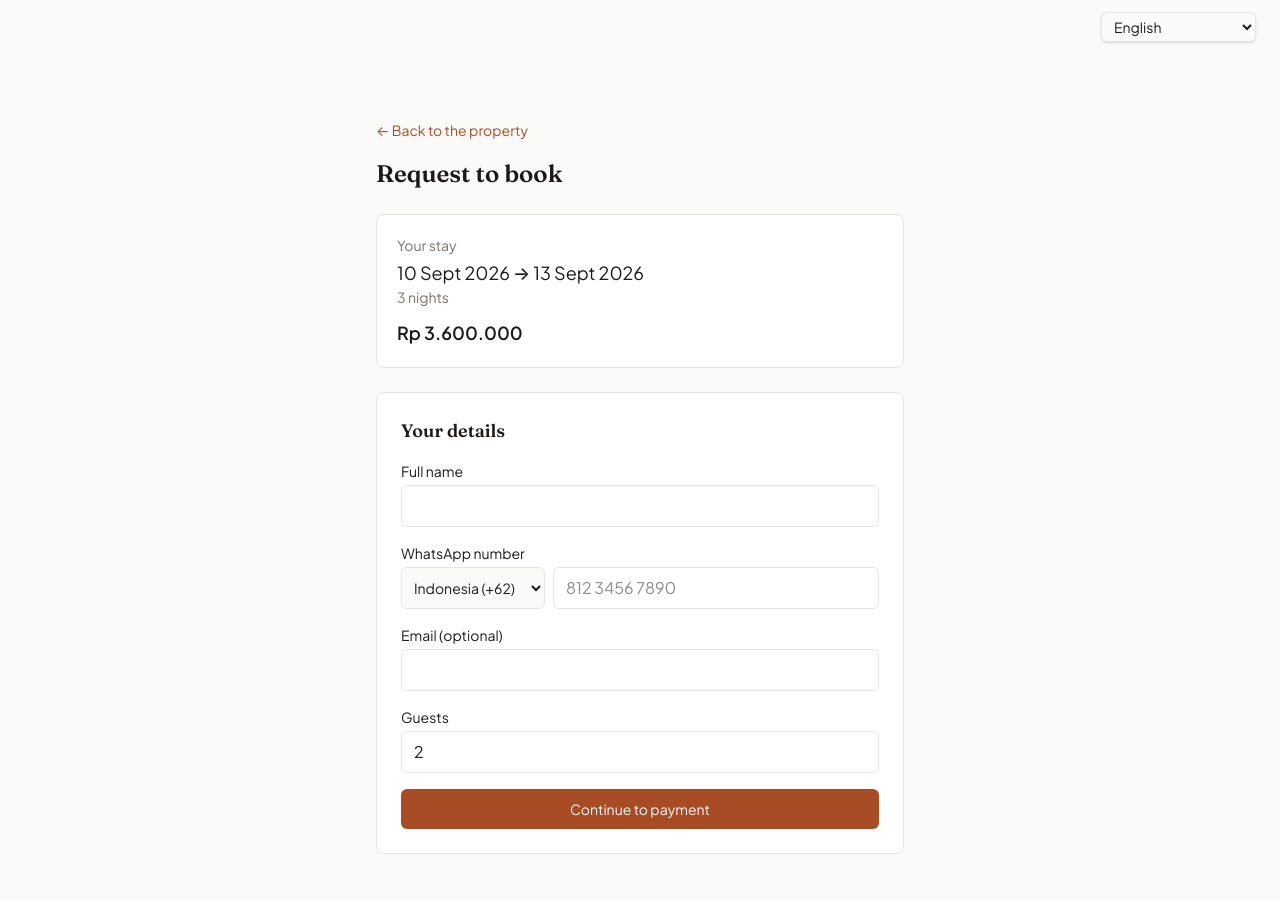
Test: checkout page › blocks submit with an inline error for an invalid number, no request sent (#54)
Expected: the text "Rp 3.600.000" is shown, [397,321,523,344]
Type "Made A." into the field labelled "Full name" at (640, 506), box [401,485,879,527]
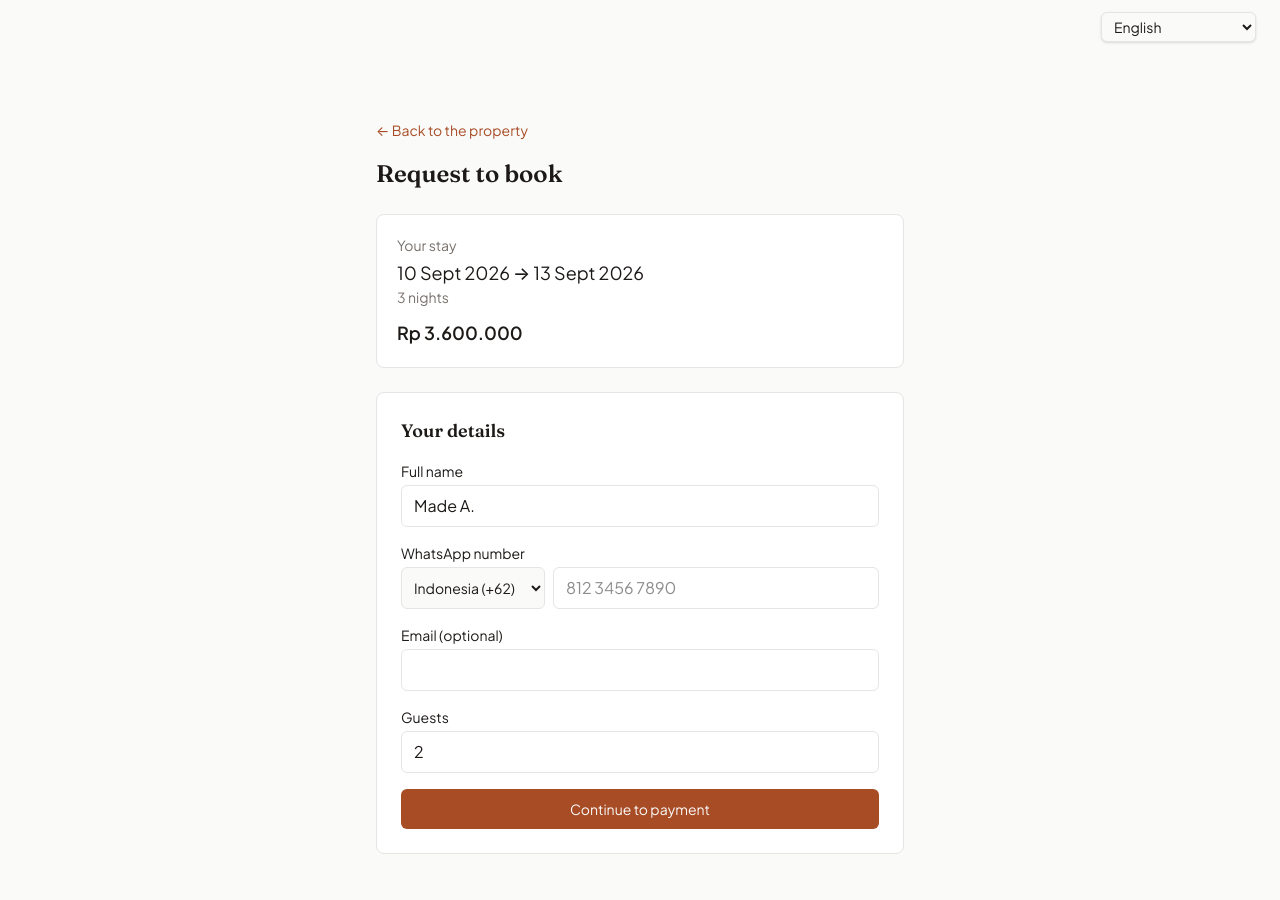
Type "123" into the field labelled "WhatsApp number" at (716, 588), box [553,567,879,609]
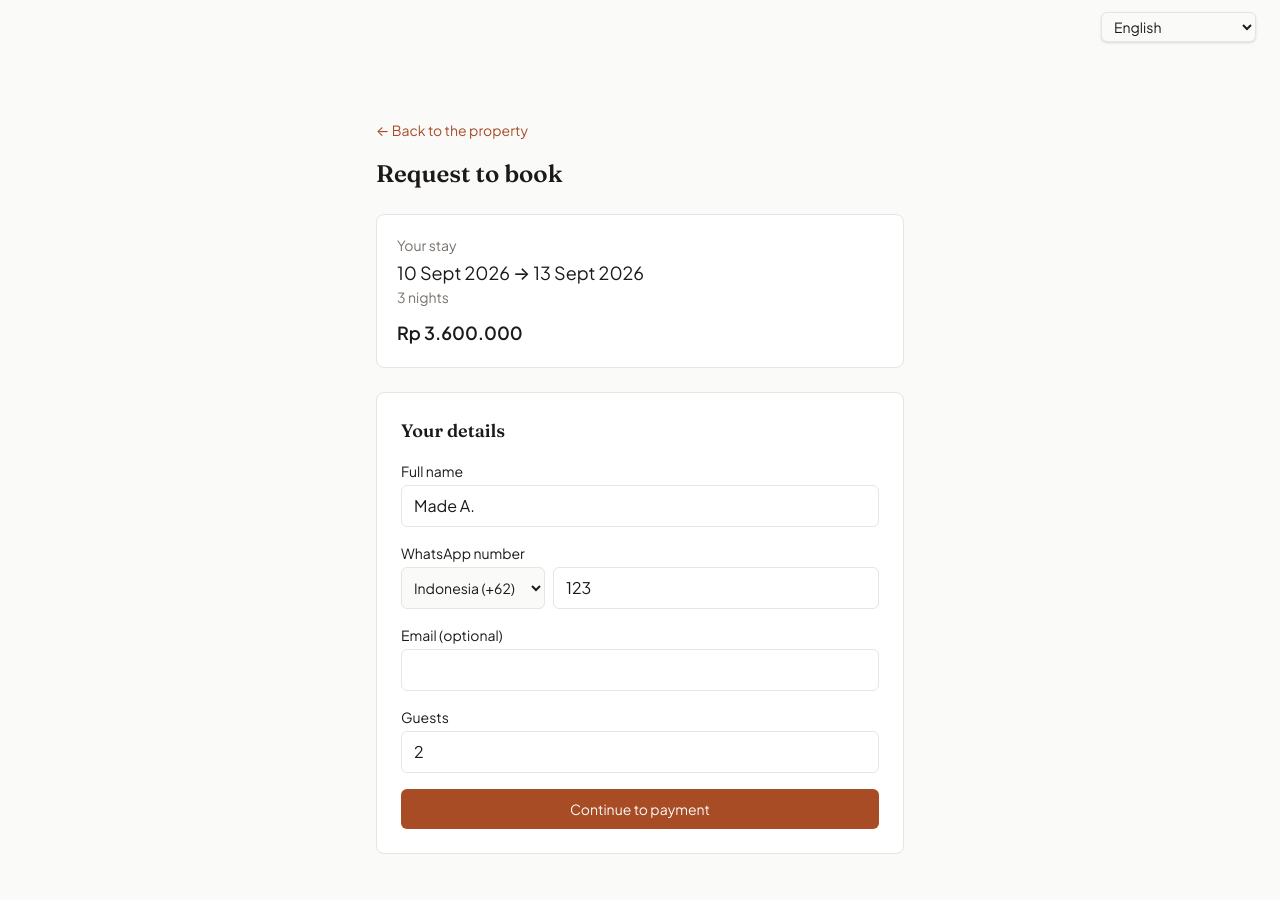
Click the button "Continue to payment" at (640, 809), box [401,789,879,829]
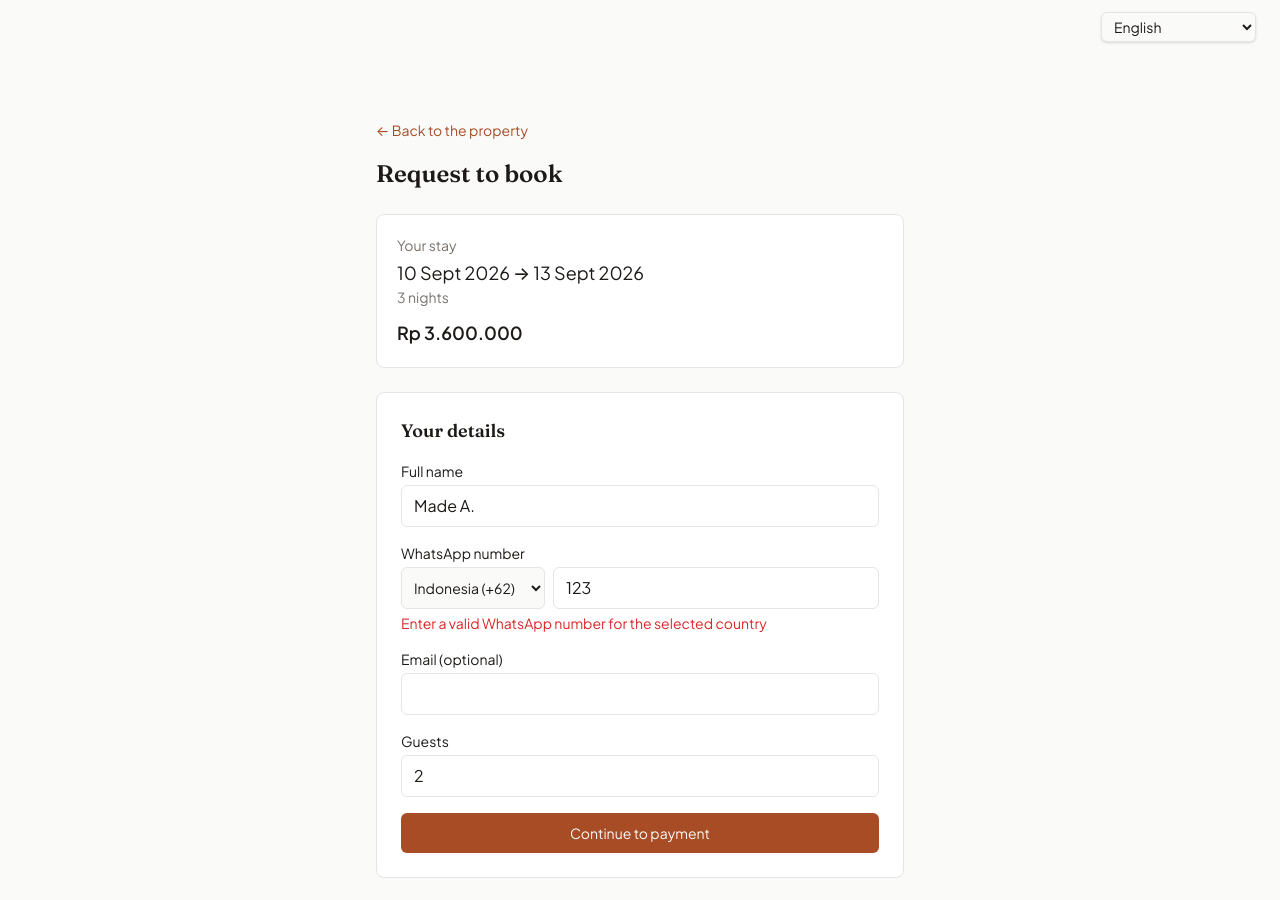
Now the text "Enter a valid WhatsApp number for the selected country" is shown, box [401,614,767,632]
